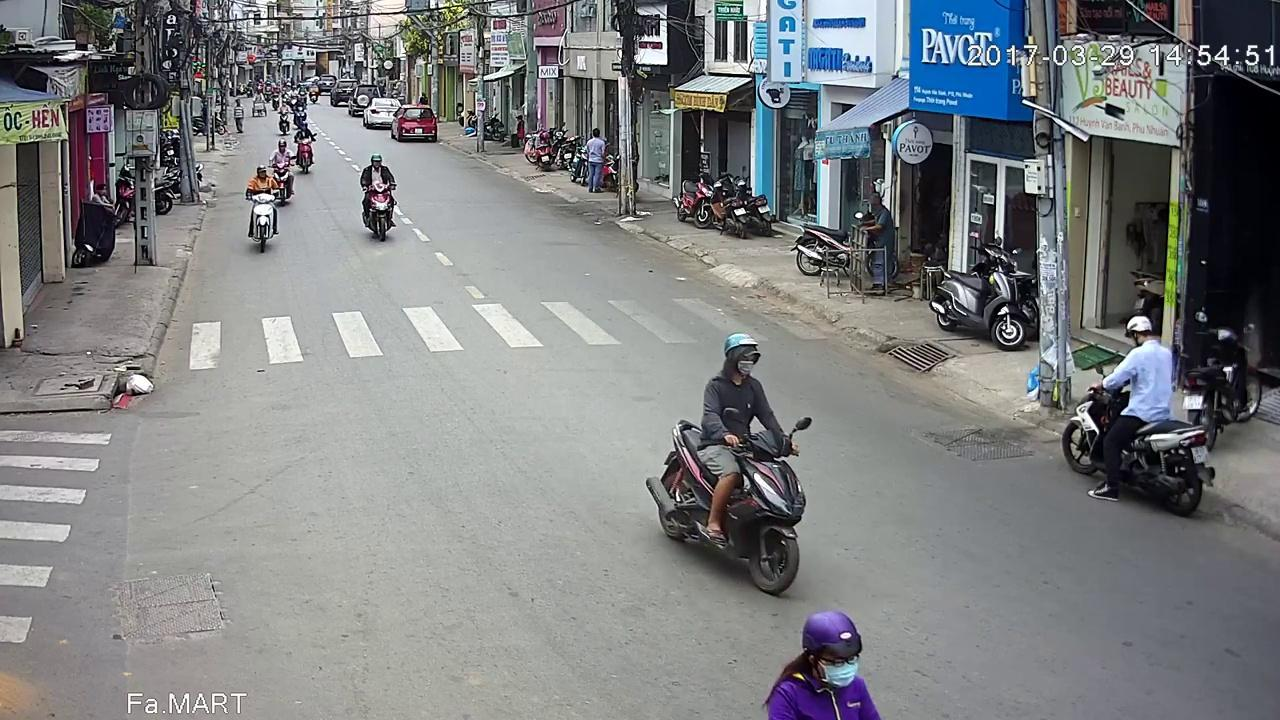xe hoi: (391, 104, 438, 141)
xe may: (654, 329, 823, 592), (1057, 314, 1211, 518), (361, 154, 401, 242), (242, 165, 279, 256), (269, 135, 298, 202), (296, 132, 320, 184)
